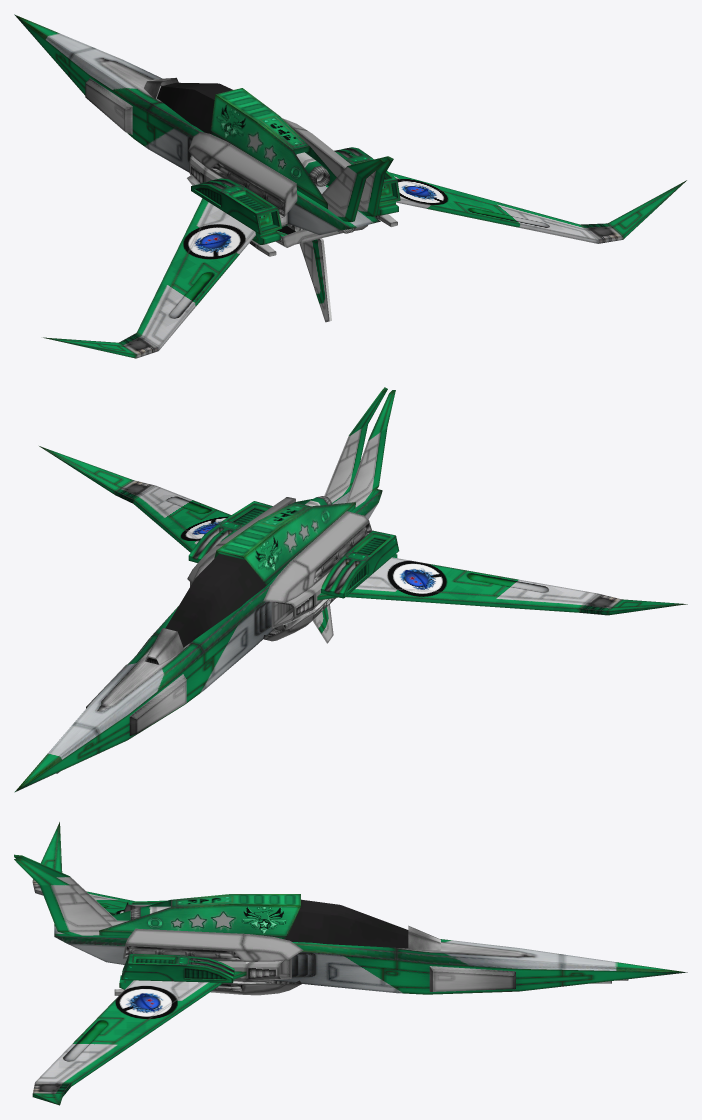
The model's file is bill_fighter.glb.
3 views of the same model, one above another, from view 1: azimuth 30°, elevation 25°; view 2: azimuth 150°, elevation 25°; view 3: azimuth 270°, elevation 25° (orthographic). The views are drawn at different scales.
Parts seen in each view (by area): view 1: Detail0; view 2: Detail0; view 3: Detail0.
Part boxes in pixels (x1,y1,x2,y2): Detail0: (14,14,686,358); Detail0: (14,387,687,792); Detail0: (14,822,687,1105).
Bounding box in the file's own units: 25.31 × 7.77 × 25.38.
1 material, 1 textured.
